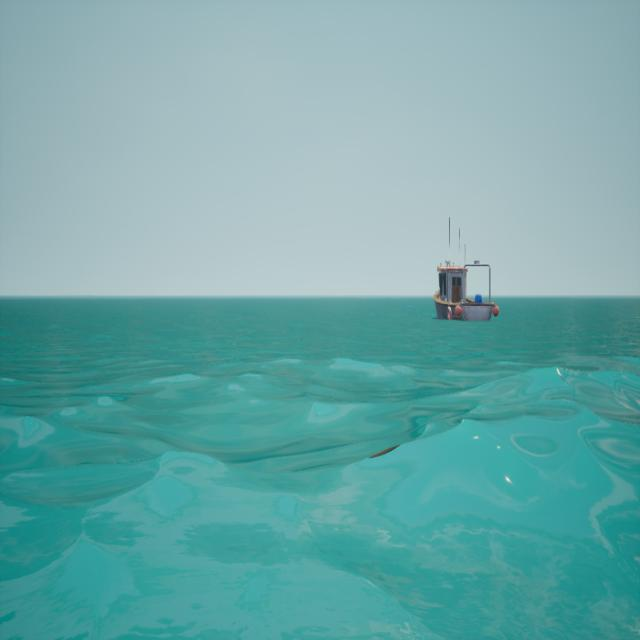ship: (429, 212, 505, 330)
